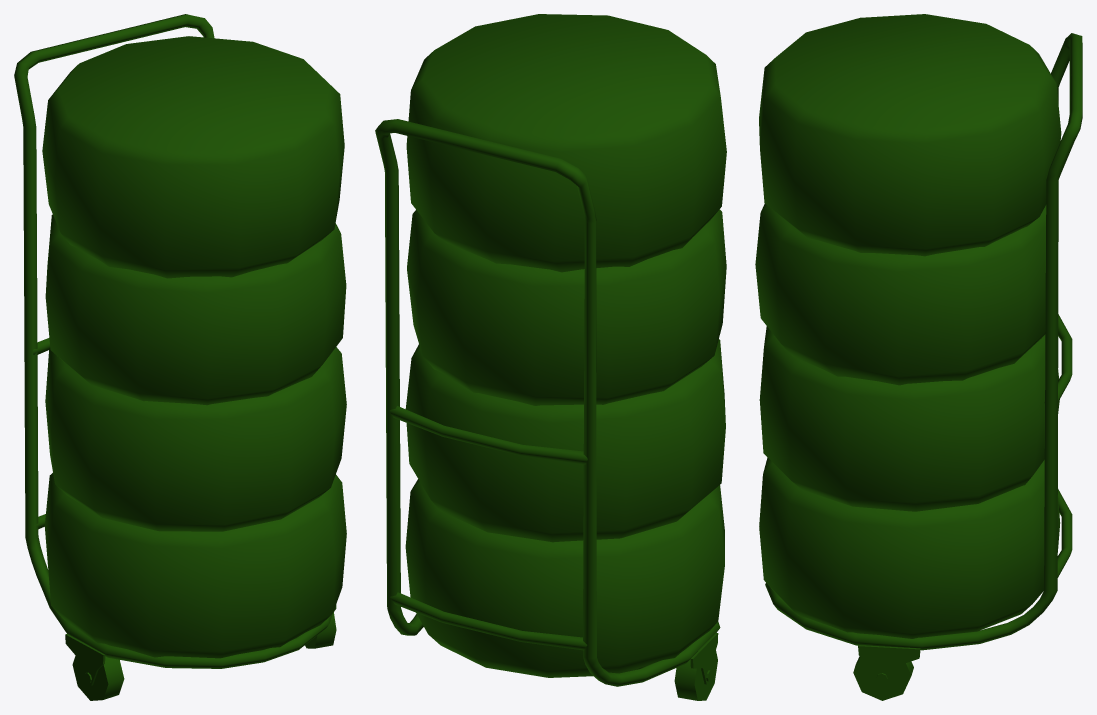
Rendered from Tire_warmers02.fbx.
3 renders of one model, left to right at view 1: azimuth 30°, elevation 25°; view 2: azimuth 150°, elevation 25°; view 3: azimuth 270°, elevation 25°, orthographic. The views are drawn at different scales.
Parts seen in each view (by area): view 1: Tire_warmers02_tire_4, Tire_warmers02_tire_2, Tire_warmers02_tire_1, Tire_warmers02_tire_3, Tire_warmers02_troll, Tire_warmers02_W2; view 2: Tire_warmers02_tire_4, Tire_warmers02_tire_3, Tire_warmers02_tire_2, Tire_warmers02_tire_1, Tire_warmers02_troll, Tire_warmers02_W2; view 3: Tire_warmers02_tire_4, Tire_warmers02_tire_3, Tire_warmers02_tire_2, Tire_warmers02_tire_1, Tire_warmers02_troll, Tire_warmers02_W1.
Part boxes in pixels (left/top/right/bottom): Tire_warmers02_tire_4: left=42, top=36, right=344, bottom=278; Tire_warmers02_tire_2: left=45, top=347, right=346, bottom=531; Tire_warmers02_tire_1: left=44, top=473, right=346, bottom=658; Tire_warmers02_tire_3: left=45, top=214, right=346, bottom=405; Tire_warmers02_troll: left=14, top=14, right=332, bottom=668; Tire_warmers02_W2: left=65, top=634, right=124, bottom=700; Tire_warmers02_tire_4: left=406, top=14, right=726, bottom=272; Tire_warmers02_tire_3: left=407, top=209, right=726, bottom=405; Tire_warmers02_tire_2: left=405, top=339, right=725, bottom=542; Tire_warmers02_tire_1: left=405, top=479, right=724, bottom=677; Tire_warmers02_troll: left=375, top=119, right=720, bottom=686; Tire_warmers02_W2: left=674, top=632, right=718, bottom=700; Tire_warmers02_tire_4: left=759, top=14, right=1061, bottom=256; Tire_warmers02_tire_3: left=755, top=203, right=1046, bottom=385; Tire_warmers02_tire_2: left=759, top=326, right=1059, bottom=511; Tire_warmers02_tire_1: left=759, top=457, right=1060, bottom=638; Tire_warmers02_troll: left=765, top=33, right=1082, bottom=650; Tire_warmers02_W1: left=853, top=645, right=920, bottom=700.
Bounding box in the file's own units: 0.2305 × 0.4786 × 0.2479.
